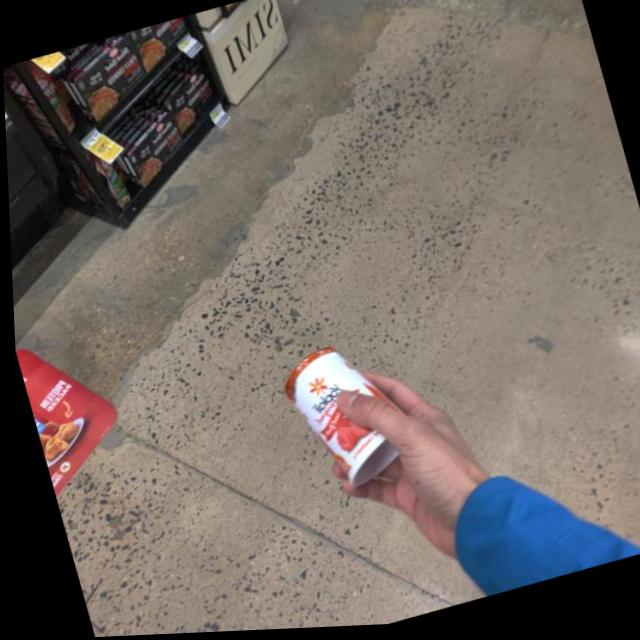Yogurt: (266, 335, 410, 502)
